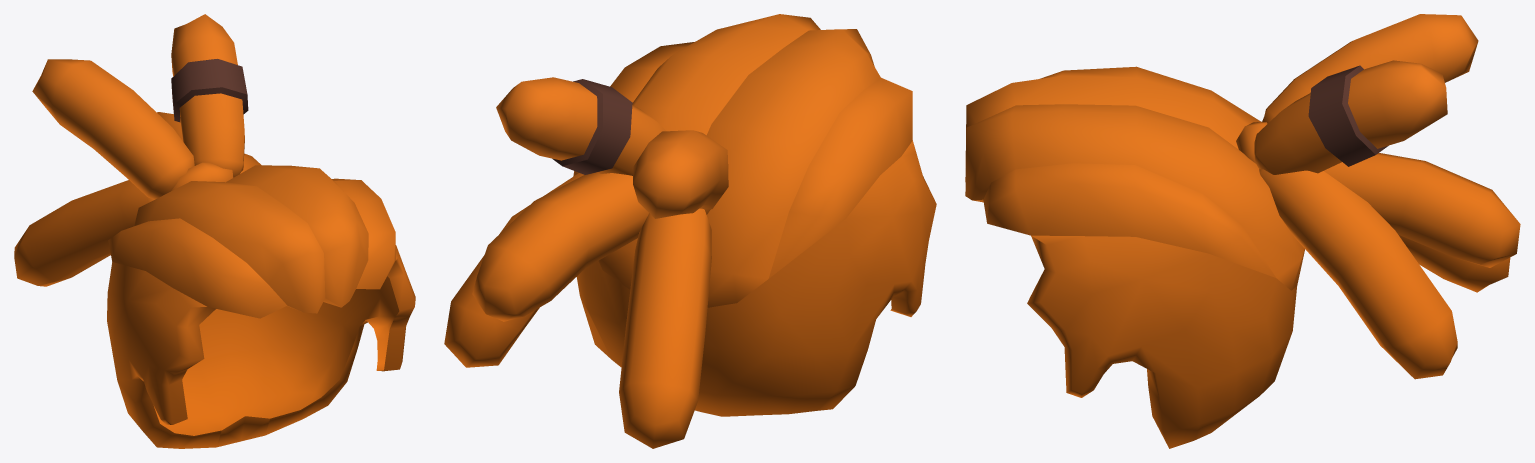
Rendered from Hair_Orange_13.fbx.
3 views of the same model, side by side, from view 1: azimuth 30°, elevation 25°; view 2: azimuth 150°, elevation 25°; view 3: azimuth 270°, elevation 25° (orthographic). The views are drawn at different scales.
Parts seen in each view (by area): view 1: Hair_Orange_13; view 2: Hair_Orange_13; view 3: Hair_Orange_13.
Part boxes in pixels (x1,y1,x2,y2): Hair_Orange_13: [14, 14, 415, 448]; Hair_Orange_13: [444, 14, 936, 448]; Hair_Orange_13: [965, 14, 1520, 448].
Size of the model in its own units: 53.97 by 66.3 by 85.25.
